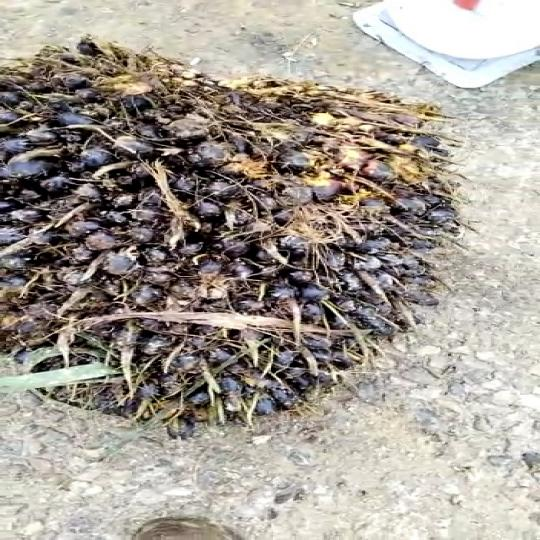mentah: (0, 32, 462, 444)
